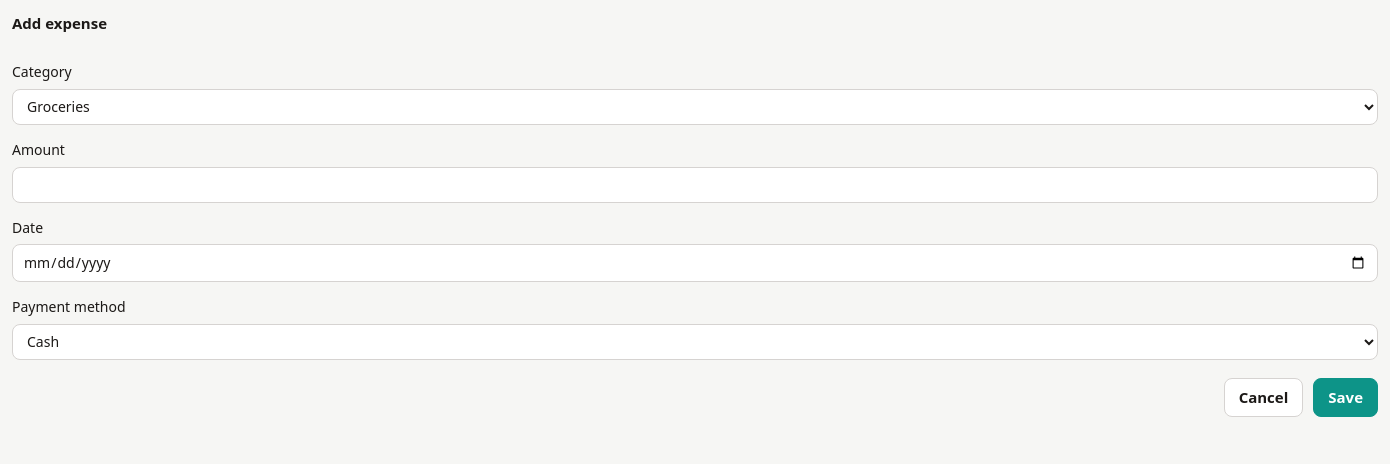
ExpenseForm › does not submit when the amount is missing
Step 1. Click the button "Save" → [1346, 397], box [1313,378,1378,417]
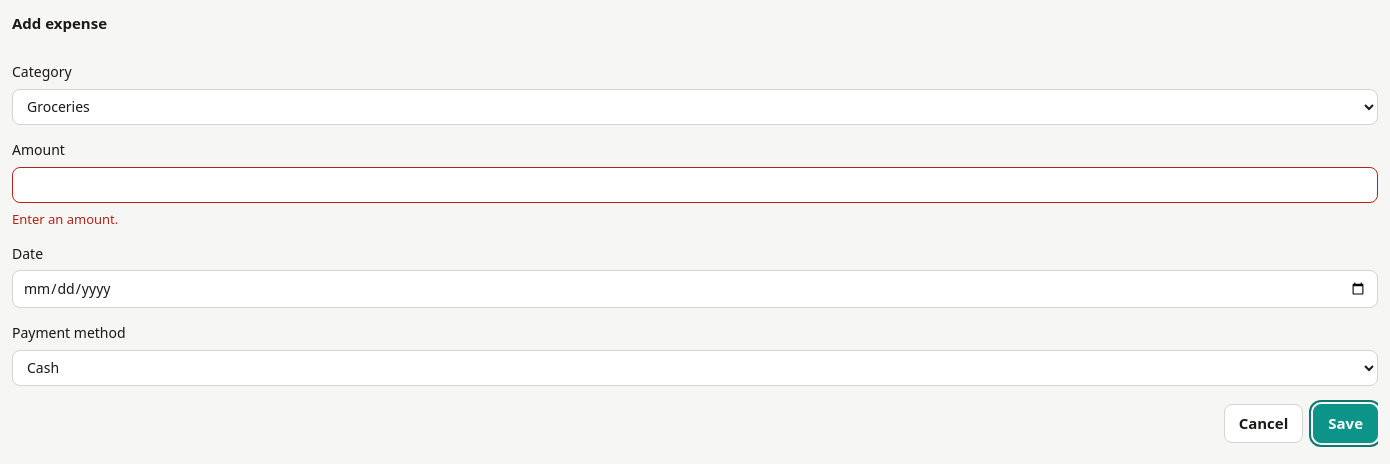
Result: the text "Enter an amount." is shown at [12,210,118,228]
